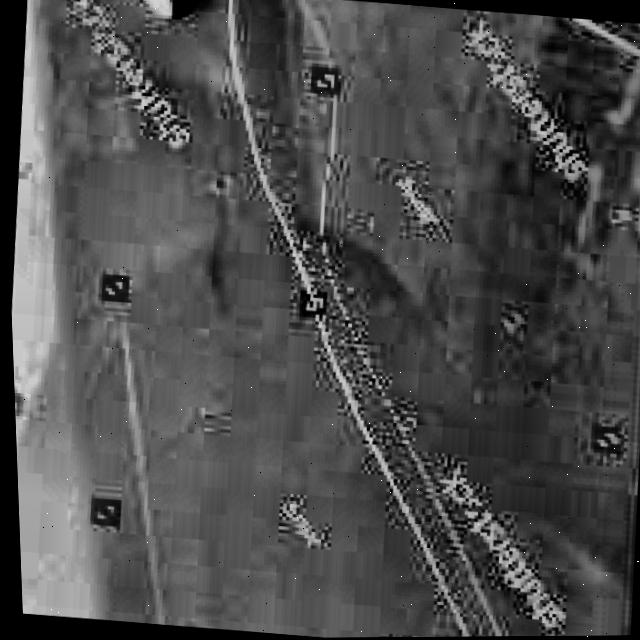door_scratch: (295, 349, 472, 638), (208, 0, 355, 282)
